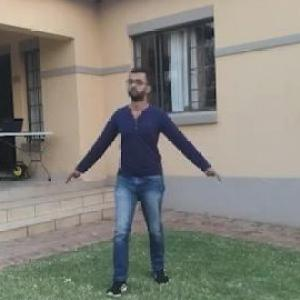land: (76, 75, 216, 281)
